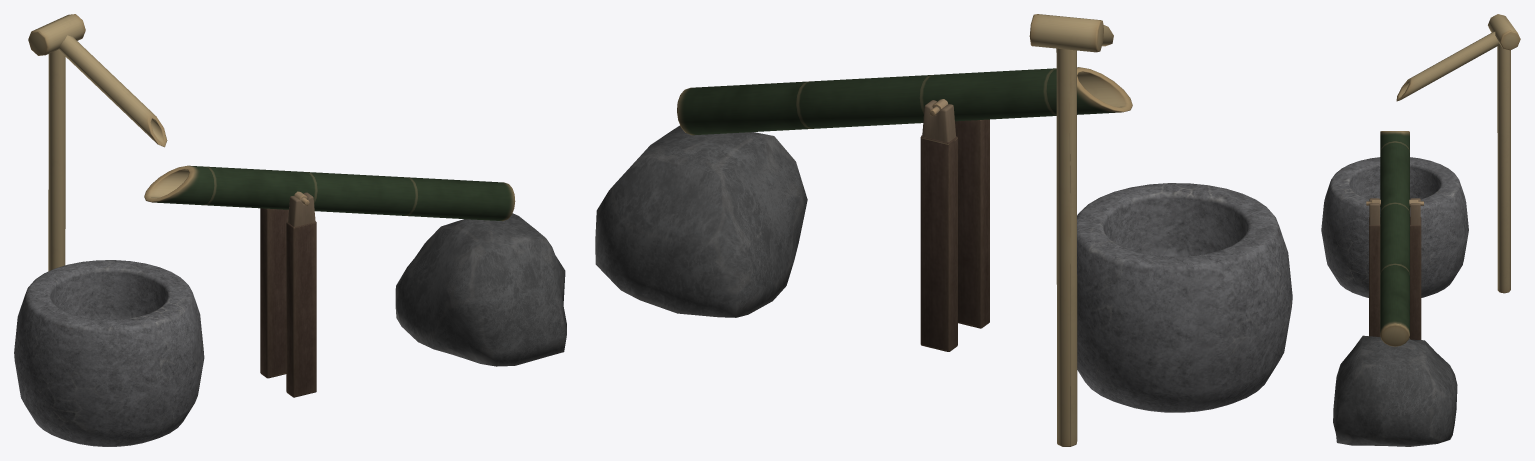
The model's file is Shishi-Odoshi.fbx.
3 views of the same model, side by side, from view 1: azimuth 30°, elevation 25°; view 2: azimuth 150°, elevation 25°; view 3: azimuth 270°, elevation 25° (orthographic). The views are drawn at different scales.
Visible parts, largest first — view 1: Shishi-Odoshi; view 2: Shishi-Odoshi; view 3: Shishi-Odoshi.
Boxes of the visible parts, bbox=[...] form: Shishi-Odoshi: bbox=[14, 14, 566, 446]; Shishi-Odoshi: bbox=[595, 14, 1292, 446]; Shishi-Odoshi: bbox=[1321, 14, 1520, 446].
Size of the model in its own units: 2.02 by 1.27 by 0.8451.
